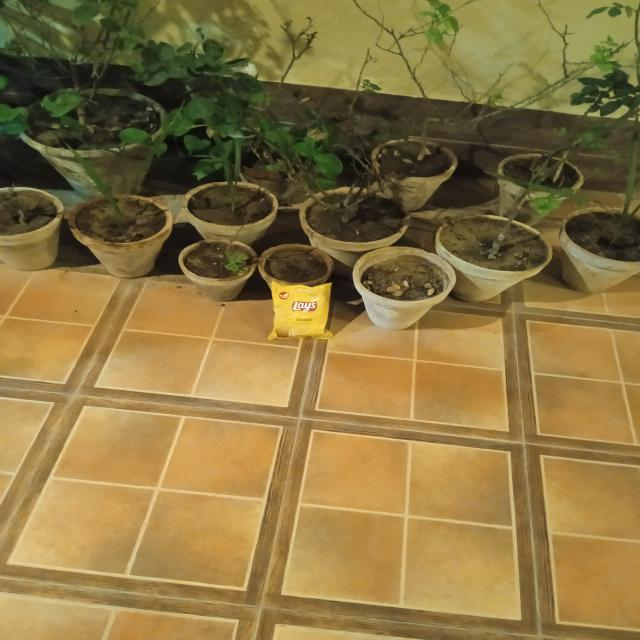Plastic: (263, 271, 341, 342)
